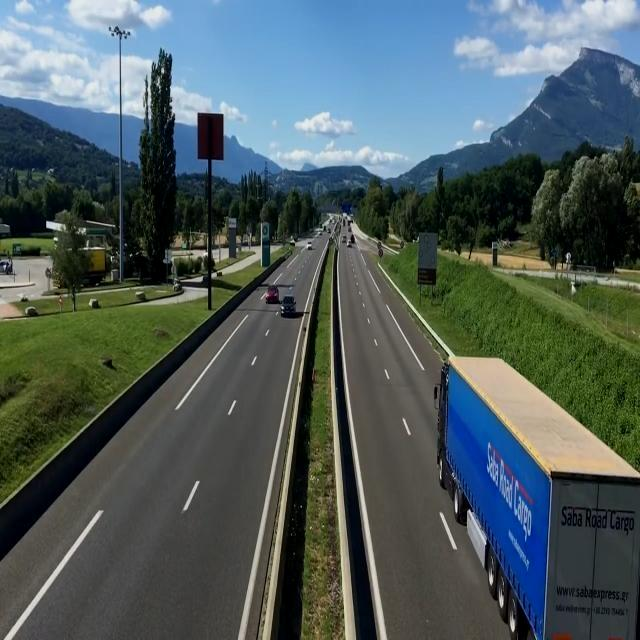Car: (279, 295, 296, 316), (264, 286, 279, 304), (306, 241, 313, 250), (346, 240, 352, 248)
Truck: (429, 355, 640, 640)
